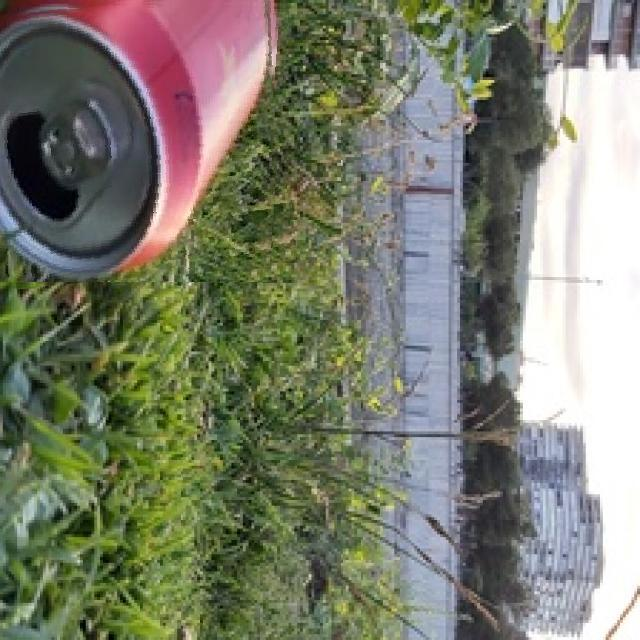recyclable: (0, 0, 289, 282)
